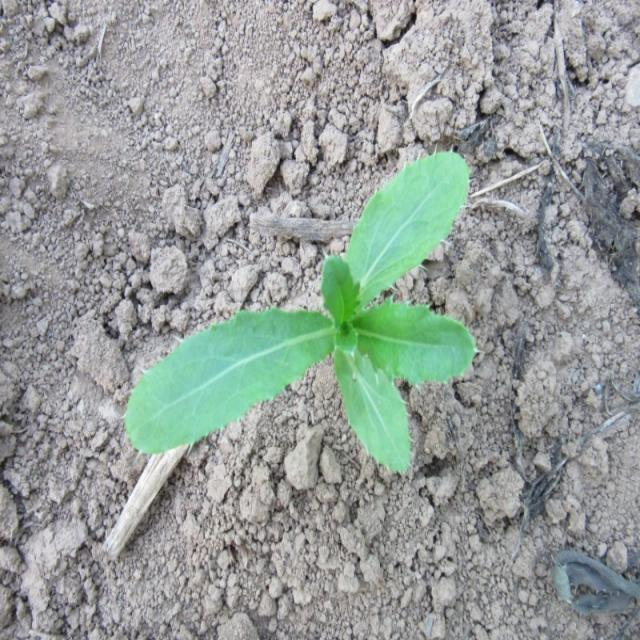cs: (122, 146, 474, 476)
